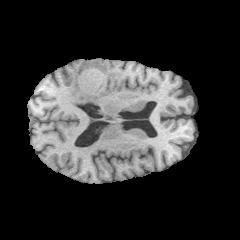glioma: (69, 61, 123, 104)
